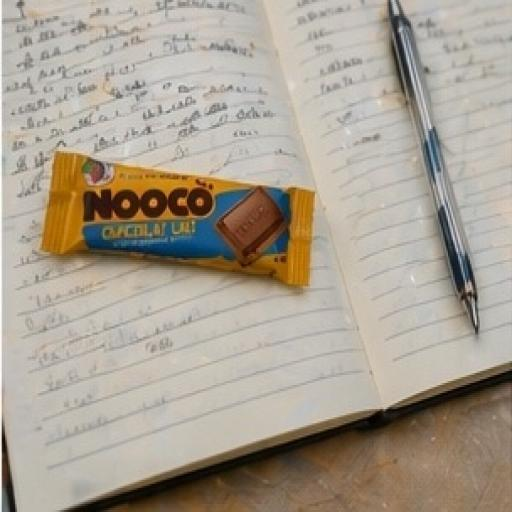biscuit-detection: (20, 123, 319, 320)
